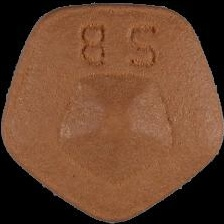0007-4896: (0, 0, 224, 224)
